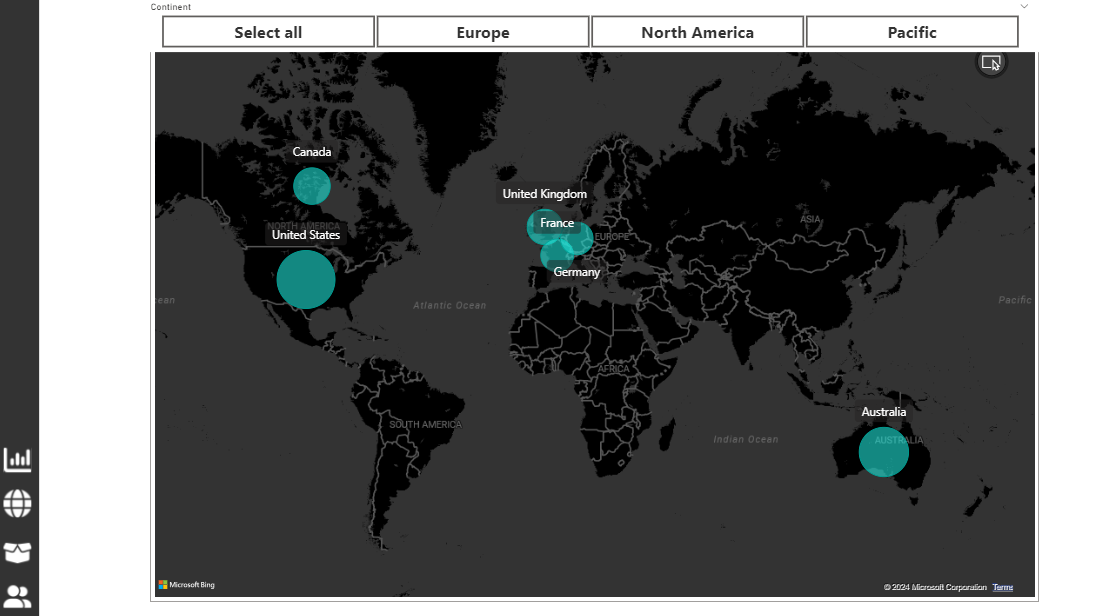

The page's visual inventory and layout, read from the dashboard file:
{"tool":"powerbi","page":{"name":"Map","canvas":[1280,720],"ordinal":1},"visuals":[{"type":"shape","box":[0,0,45,720],"z":0},{"type":"actionButton","box":[0,512.2,44.8,40.3],"z":0,"group":"g1"},{"type":"map","fields":{"Category":["Territory Lookup.Country"],"Size":["Measure Table.Total Orders"]},"box":[172.2,44.4,1022.2,650],"z":1000},{"type":"actionButton","box":[0,562.3,44.8,40.3],"z":1000,"group":"g1"},{"type":"slicer","fields":{"Values":["Territory Lookup.Continent"]},"box":[160,0,1034.4,63.3],"z":2000},{"type":"actionButton","box":[0,619.7,44.8,40.3],"z":2000,"group":"g1"},{"type":"actionButton","box":[0,668.9,44.8,40.3],"z":3000,"group":"g1"},{"type":"group","id":"g1","title":"Navigation Buttons","box":[0,512.2,44.8,197],"z":3000}]}

Visuals, with their boxes on the page's 1280x720 design canvas (x1, y1, x2, y2). These are canvas units, not pixel positions in the 1112x616 screenshot, which may show the page scaled, cropped or inside an application window:
shape: (x1=0, y1=0, x2=45, y2=720)
actionButton: (x1=0, y1=512, x2=45, y2=552)
map - Territory Lookup.Country x Measure Table.Total Orders: (x1=172, y1=44, x2=1194, y2=694)
actionButton: (x1=0, y1=562, x2=45, y2=603)
slicer - Territory Lookup.Continent: (x1=160, y1=0, x2=1194, y2=63)
actionButton: (x1=0, y1=620, x2=45, y2=660)
actionButton: (x1=0, y1=669, x2=45, y2=709)
"Navigation Buttons" group: (x1=0, y1=512, x2=45, y2=709)
